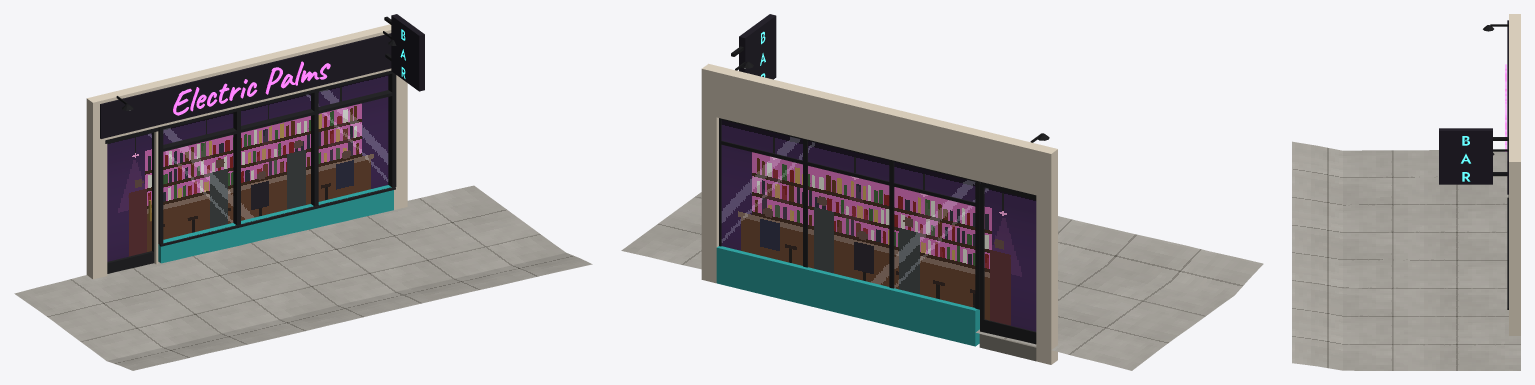
The model's file is electric_palms.glb.
3 renders of one model, left to right at view 1: azimuth 30°, elevation 25°; view 2: azimuth 150°, elevation 25°; view 3: azimuth 270°, elevation 25°, orthographic. The views are drawn at different scales.
Parts seen in each view (by area): view 1: ElectricPalms; view 2: ElectricPalms; view 3: ElectricPalms.
Boxes of the visible parts, bbox=[...] form: ElectricPalms: bbox=[14, 14, 592, 370]; ElectricPalms: bbox=[621, 14, 1263, 370]; ElectricPalms: bbox=[1292, 14, 1520, 370].
Size of what is drawn, in the model's own units: 9.5 by 4.2 by 4.25.
Materials: 13 (2 with a texture image).
